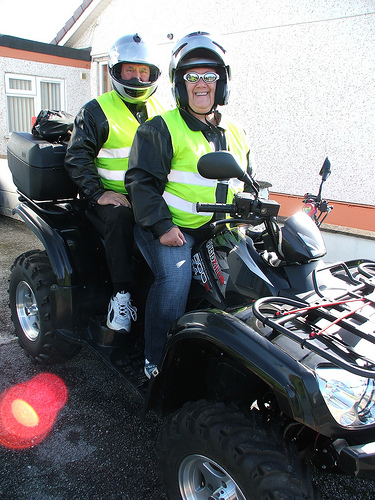helmet: (107, 42, 167, 97), (163, 35, 234, 75)
